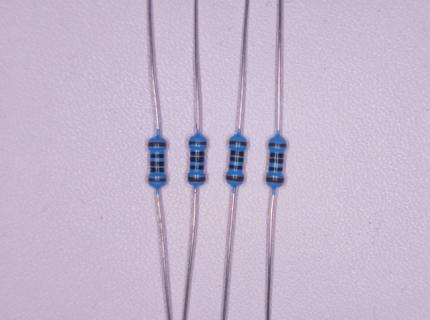Black band: (270, 158, 283, 164), (231, 150, 244, 156), (229, 164, 242, 170), (270, 153, 284, 158), (230, 157, 244, 162), (191, 151, 205, 156), (150, 161, 164, 166), (269, 166, 282, 171), (191, 157, 204, 162), (190, 165, 204, 169), (151, 154, 165, 158), (150, 168, 164, 172)
Brown band: (266, 176, 284, 183), (187, 176, 206, 182), (229, 140, 247, 146), (226, 175, 244, 181), (148, 142, 167, 147), (268, 142, 287, 147), (148, 177, 166, 182), (189, 140, 207, 145)
